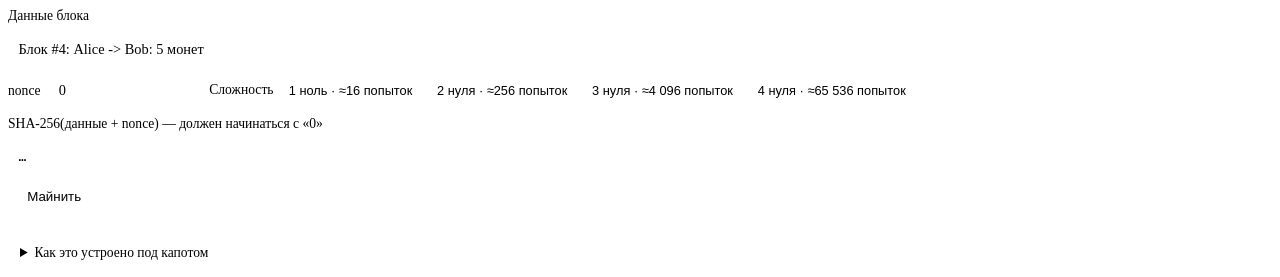
Test case: renders data, nonce and difficulty selector; difficulty 1 is default
Replace the text in the field labelled "Данные блока" with "test" at (640, 49), box [8, 34, 1272, 65]
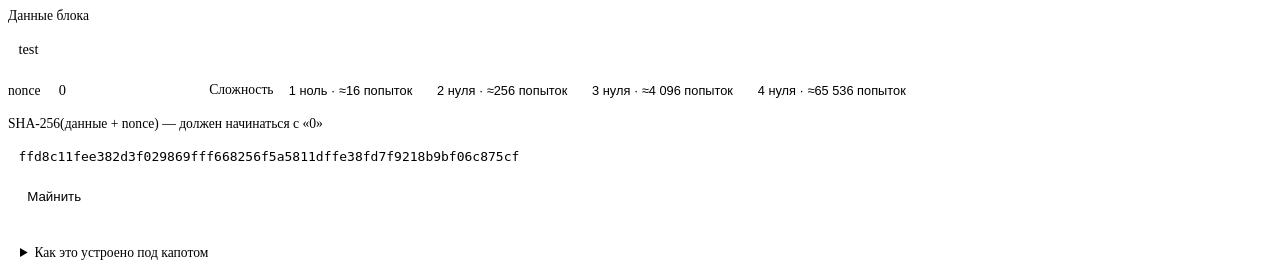
Expected: the field labelled "nonce" is shown, [48, 75, 197, 106]
Expected: the text "ff" is shown, [18, 149, 519, 164]
